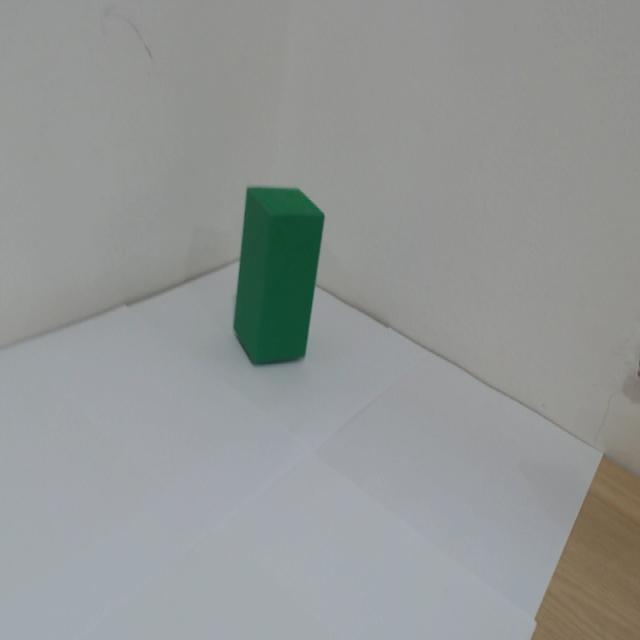cube: (221, 114, 379, 479)
